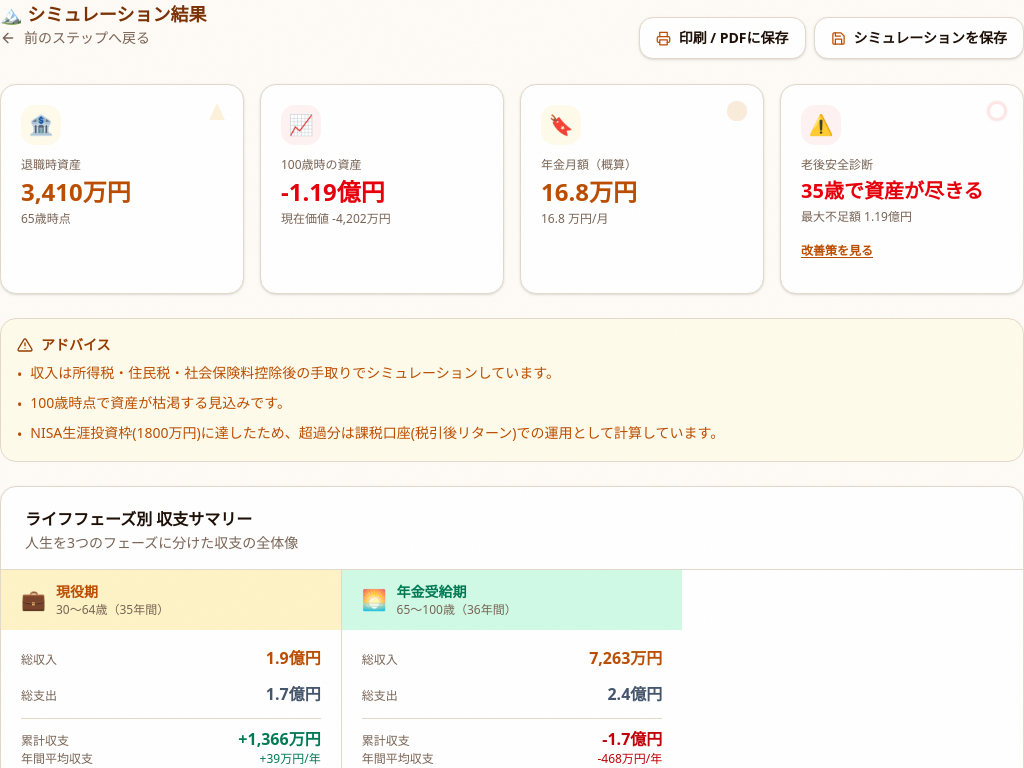
Test case: SaveDialog full flow › disables the save button while the name is empty
This screenshot has width=1024, height=768.
What coordinates should you click on to do the following:
click the button "シミュレーションを保存"
I would click on:
 (919, 38)
Its box is [814, 17, 1023, 59].
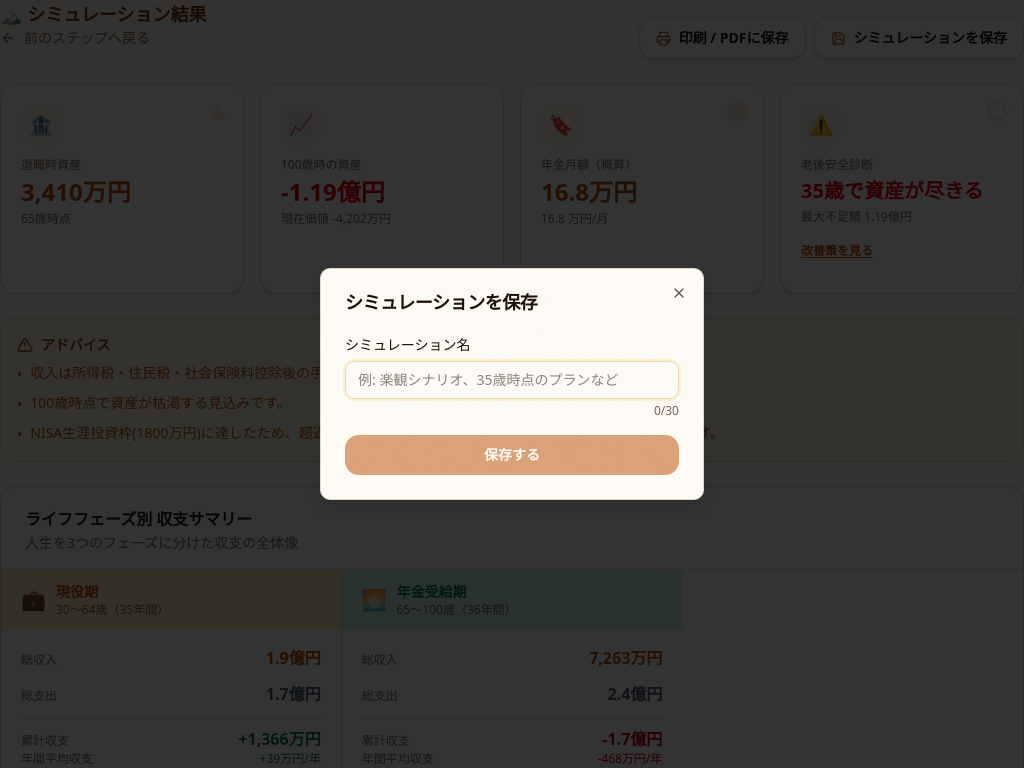
expect the button "保存する" is disabled: met, box [345, 435, 679, 475]
